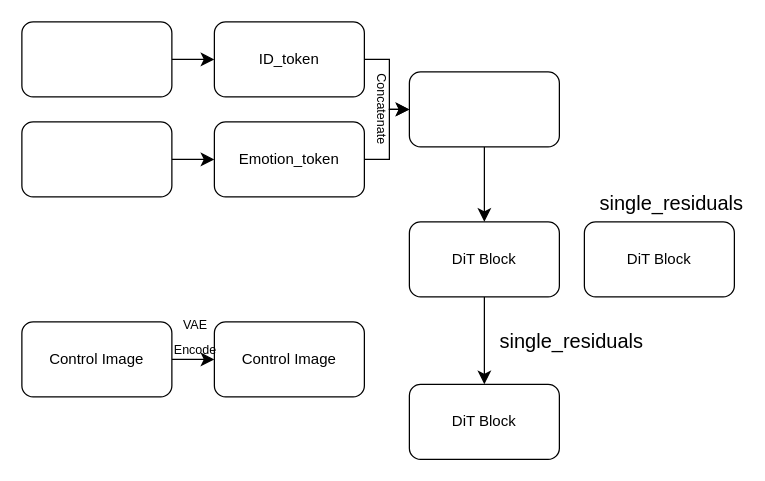
The diagram is 765 pixels wide and 481 high, and some of its shapes have lost their labels. The shapes that lost their labels are listed below. From the top down, each one's centre as x and y in pixels, then its label:
At (96,59): "Highlight Moments (ID Anchor Set)".
At (483,109): "combined_token".
At (96,159): "Emotion Reference".
